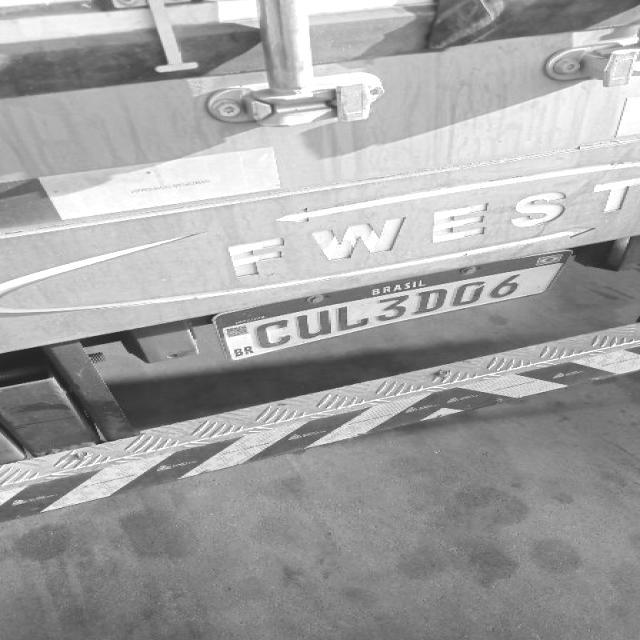placa_mercosul: (216, 249, 569, 363)
